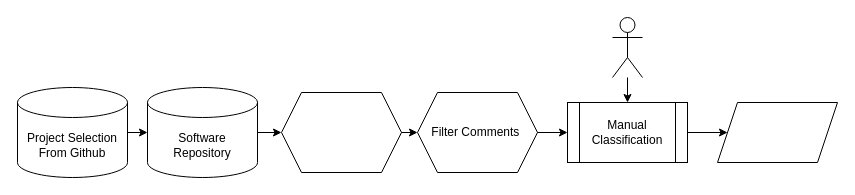
The diagram is 855 pixels wide and 195 high, and some of its shapes have lost their labels. Here are the shapes that lost their labels. From the top down, the centre of each, then its label:
the point at 341,132: Comments Extraction
the point at 777,132: Analyse Results
